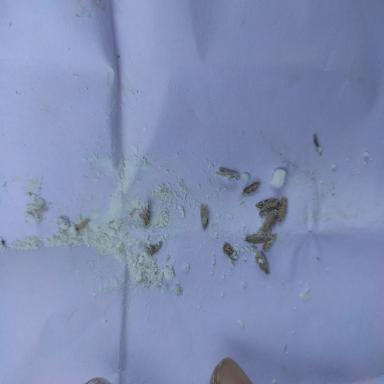pbw: (262, 209, 282, 235), (255, 197, 278, 217), (237, 181, 260, 198), (214, 167, 240, 181), (254, 251, 269, 274), (261, 230, 276, 252), (241, 231, 264, 243), (222, 243, 238, 260), (277, 196, 287, 222), (143, 193, 150, 226), (200, 204, 208, 228), (150, 241, 162, 255), (76, 219, 89, 231)
